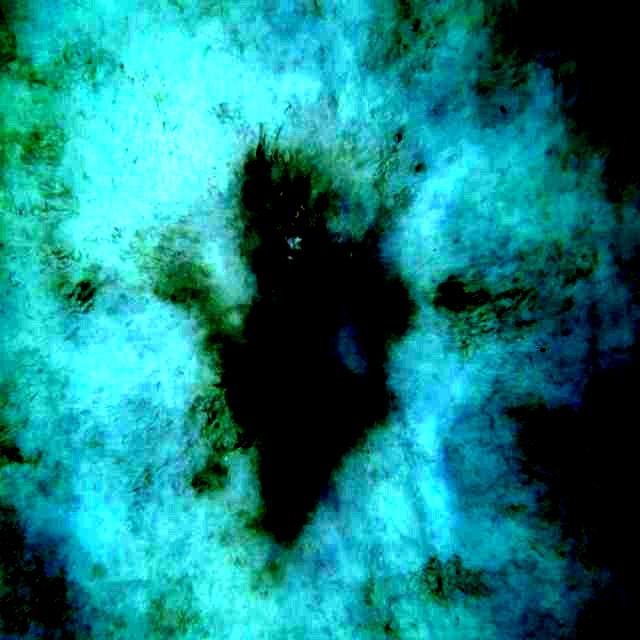AKIEC: (176, 137, 411, 523)
